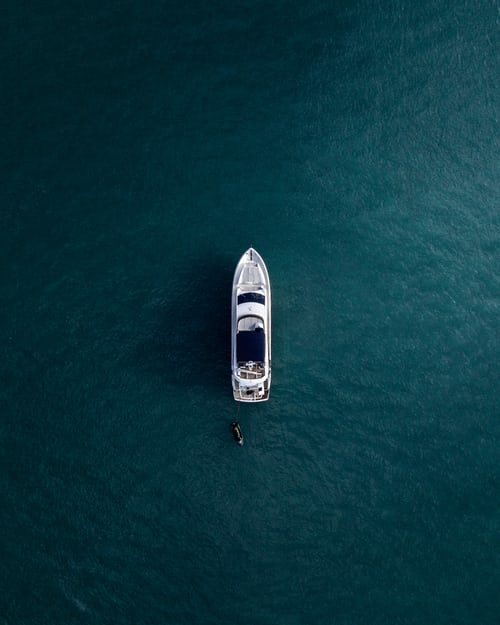yacht: (207, 235, 289, 418)
